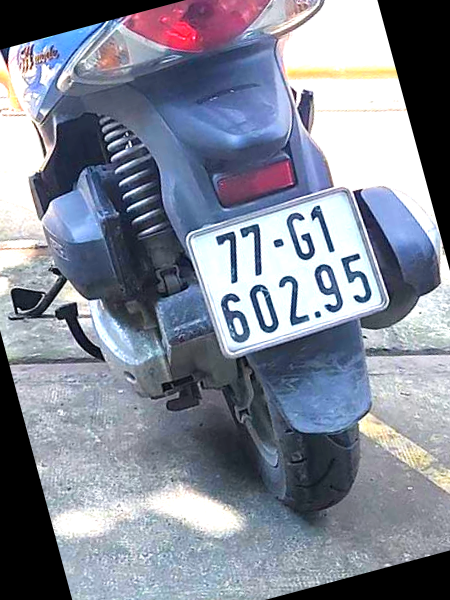number: (187, 187, 386, 357)
